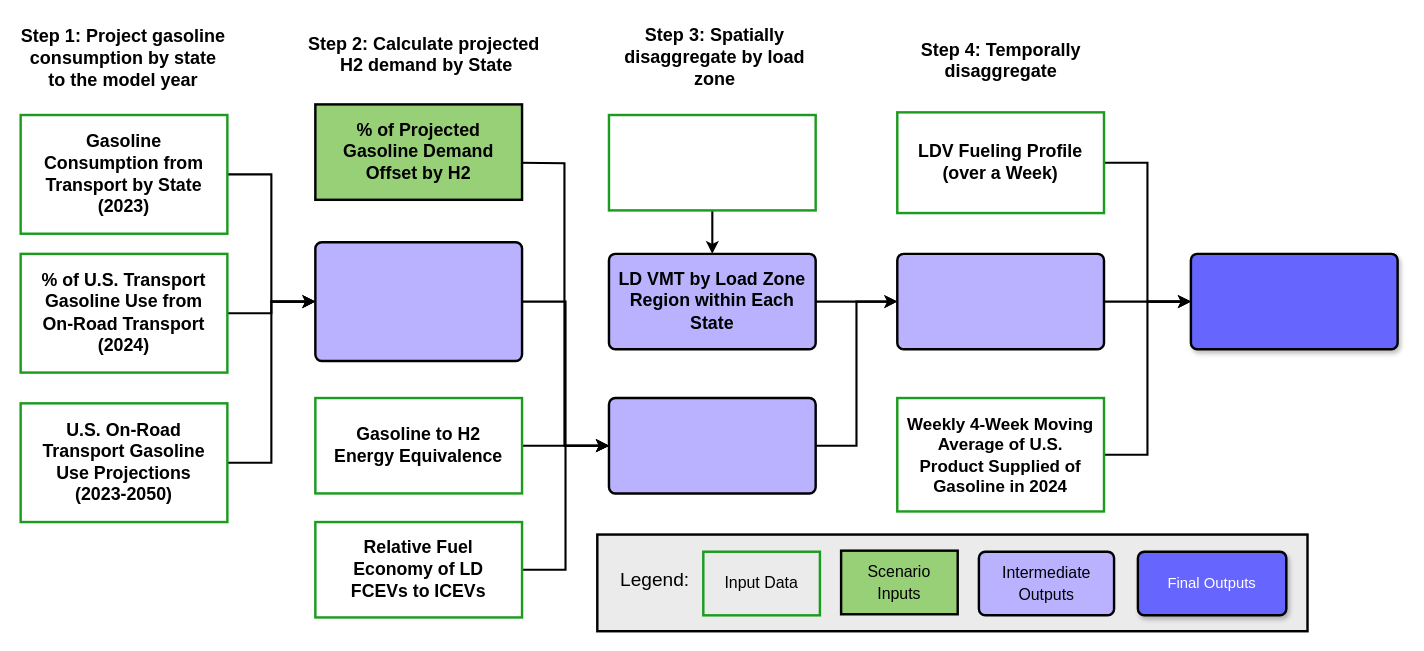
Image size: 1424x651. Some labels were removed from this diagram. Here are the shapes that lost their labels. From the top down, the centre of each, then its label:
the point at 711,162: HPMS 2023 Road Traffic Data
the point at 418,301: Projected Gasoline Consumption from LD Transport by State
the point at 1000,301: Projected LD Transport H2 Demand by Load Zone
the point at 1295,302: LD Transport H2 Demand Profile by Load Zone
the point at 711,445: Projected LD Transport H2 Demand by State
